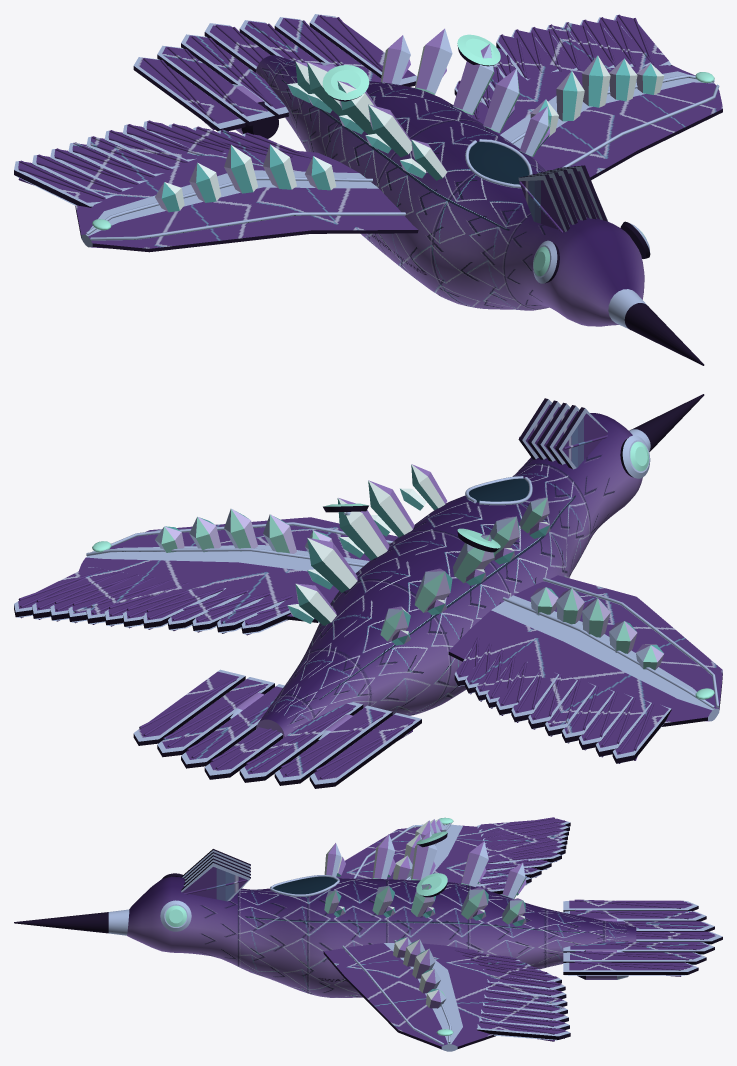
3 renders of one model, top to bottom at view 1: azimuth 30°, elevation 25°; view 2: azimuth 150°, elevation 25°; view 3: azimuth 270°, elevation 25°, orthographic. The views are drawn at different scales.
Parts seen in each view (by area): view 1: kingfisher_hull; view 2: kingfisher_hull; view 3: kingfisher_hull.
Part boxes in pixels (bbox=[...]): kingfisher_hull: bbox=[14, 14, 722, 365]; kingfisher_hull: bbox=[14, 394, 722, 788]; kingfisher_hull: bbox=[14, 817, 722, 1051].
Size of the model in its own units: 12.5 by 3.63 by 17.
Materials: 1 (1 with a texture image).
